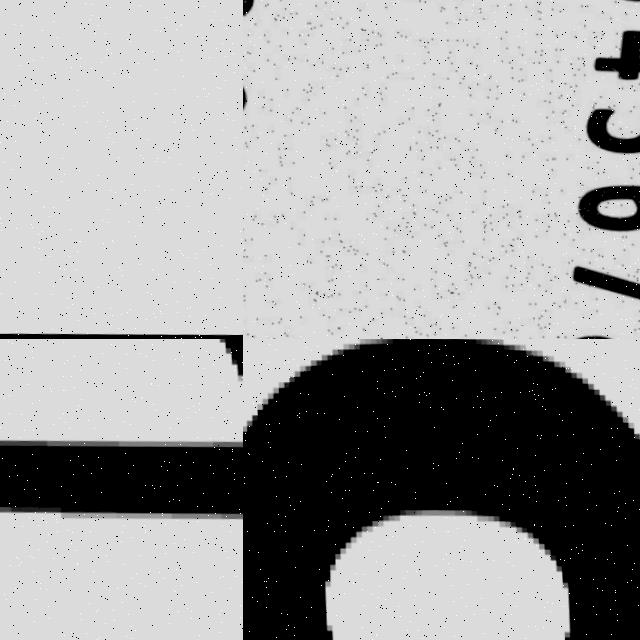0: (338, 0, 502, 26)
1: (0, 339, 243, 634)
4: (577, 6, 640, 107)
5: (551, 82, 640, 184)
6: (537, 151, 640, 263)
7: (524, 227, 640, 339)
8: (513, 296, 640, 339)
C: (243, 339, 640, 640)
R: (0, 0, 243, 181)
